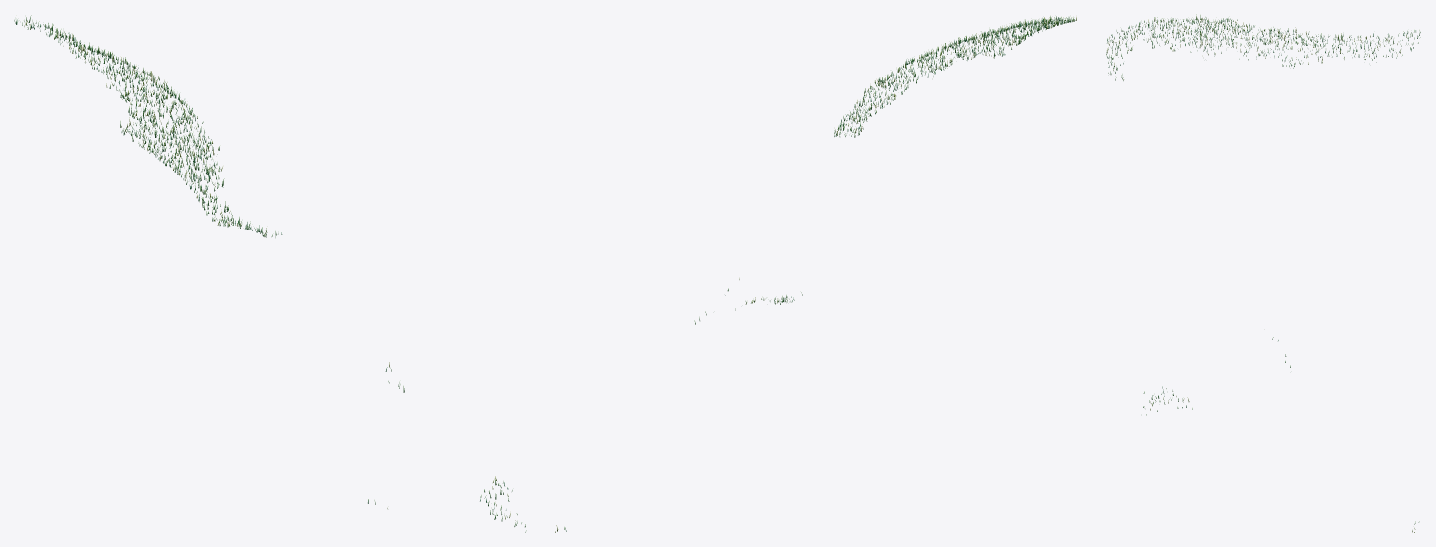
3 views of the same model, side by side, from view 1: azimuth 30°, elevation 25°; view 2: azimuth 150°, elevation 25°; view 3: azimuth 270°, elevation 25° (orthographic). The views are drawn at different scales.
Parts seen in each view (by area): view 1: gc_57; view 2: gc_57; view 3: gc_57.
Part boxes in pixels (x1=…): gc_57: x1=14, y1=15, x2=526, y2=532; gc_57: x1=555, y1=16, x2=1076, y2=532; gc_57: x1=1106, y1=14, x2=1420, y2=532.
Size of the model in its own units: 17.95 by 24.52 by 18.12.
1 material, 1 textured.
